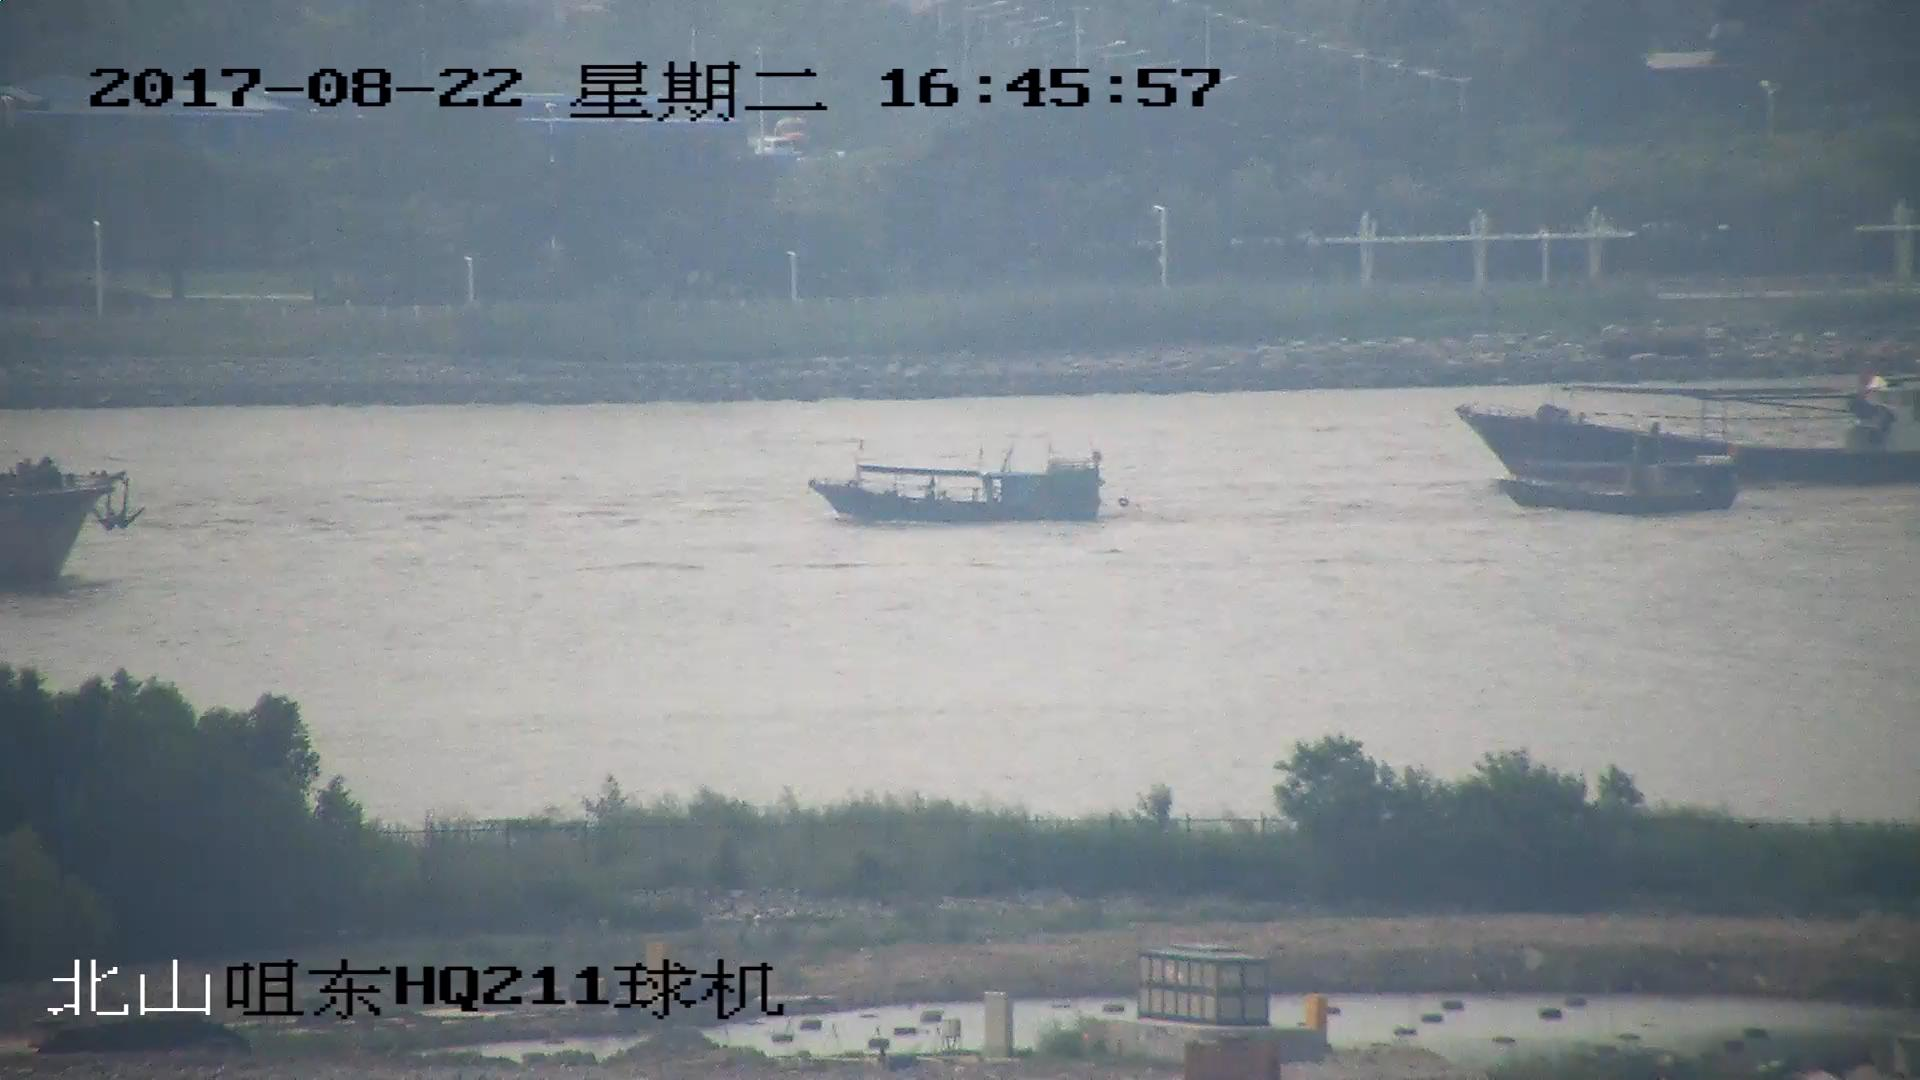bulk cargo carrier: (1, 458, 138, 574)
fishing boat: (1457, 378, 1920, 487), (808, 444, 1108, 524), (1502, 444, 1731, 520)
